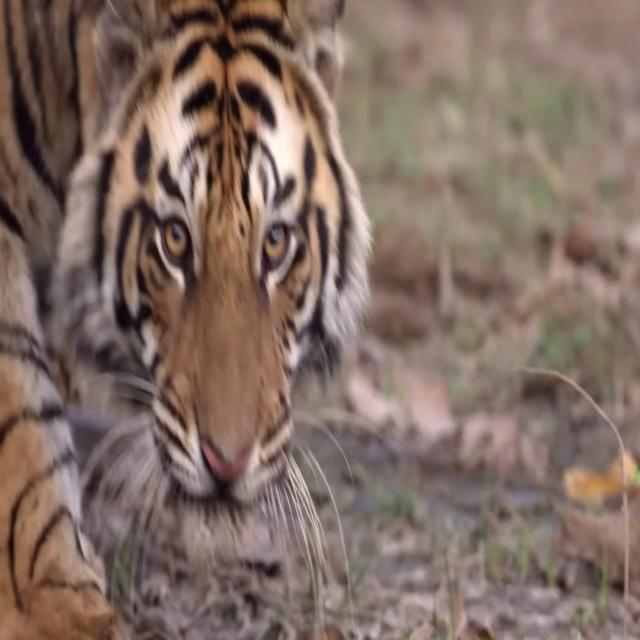tiger: (0, 0, 374, 640)
